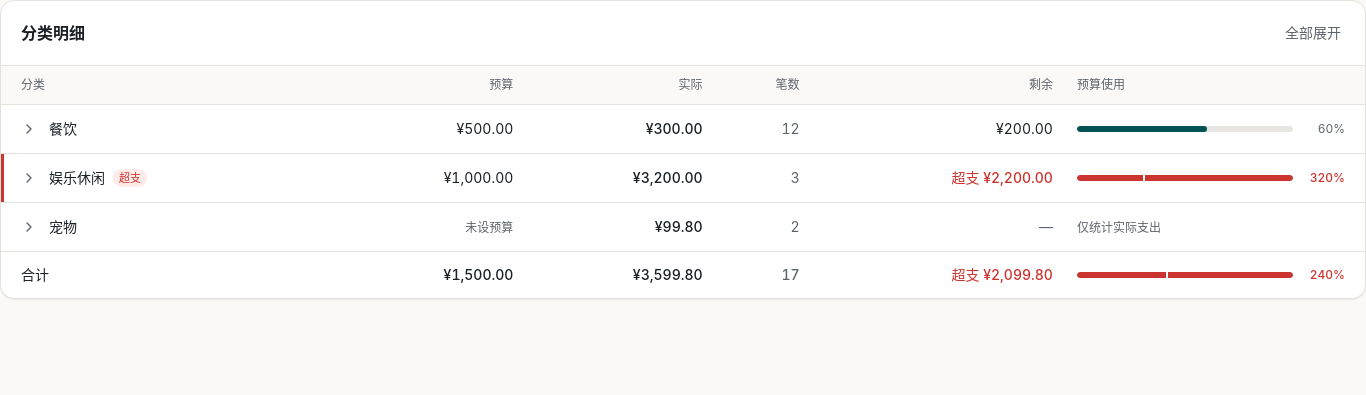
it: CategoryTable › expands a level-1 row to its level-2 rows and collapses it again
The width and height of the screenshot is (1366, 395).
Click the button named "展开「餐饮」的二级分类" at (29, 129), box [17,117,41,141]
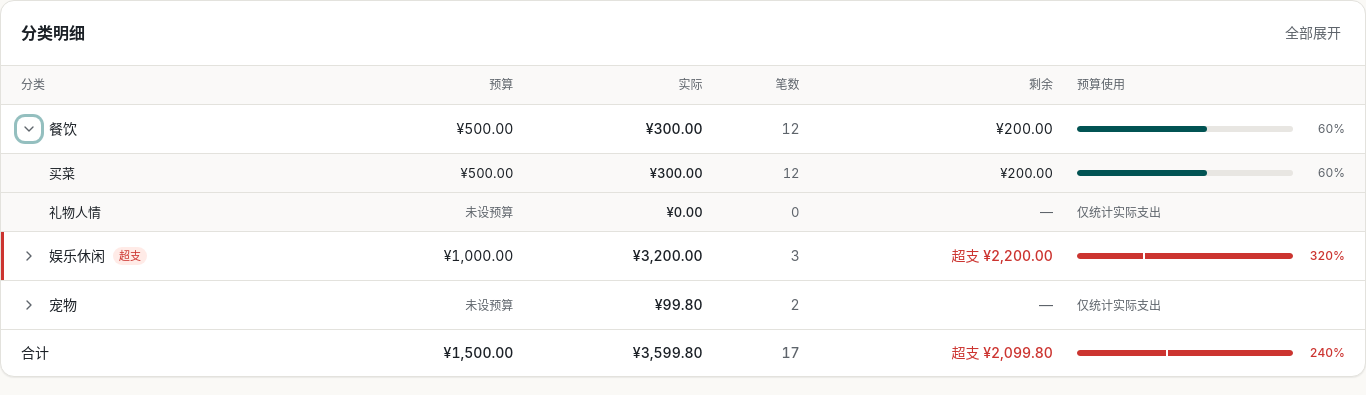
expect the text "买菜" is shown: met, box [49,162,75,184]
Click the button named "收起「餐饮」的二级分类" at (29, 129), box [17,117,41,141]
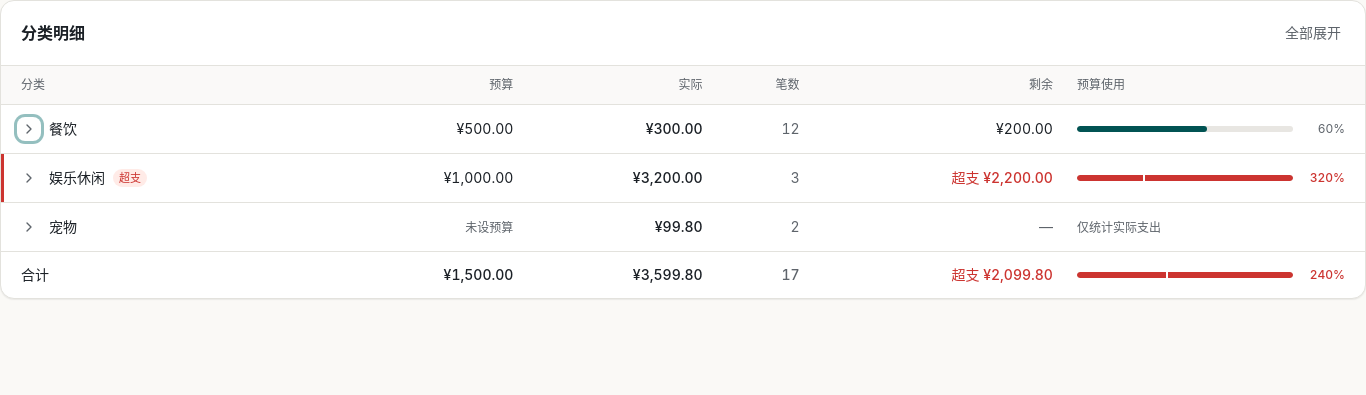
expect the text "买菜" is gone: met
